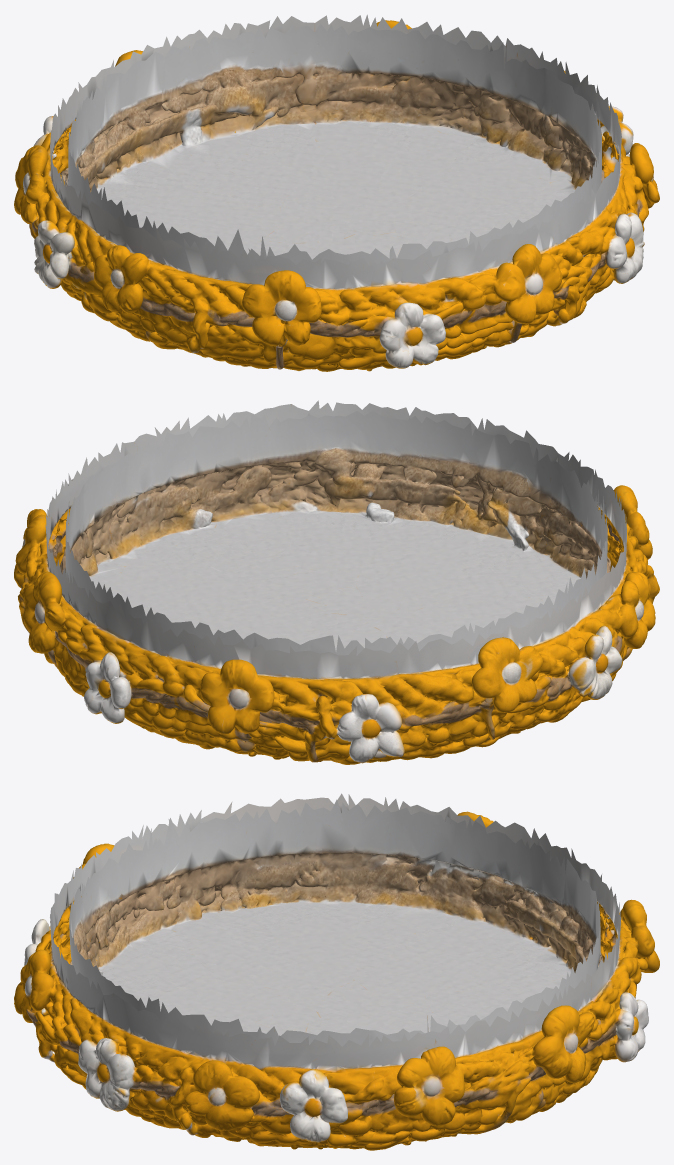
File: jar-base-display.glb
3 renders of one model, top to bottom at view 1: azimuth 30°, elevation 25°; view 2: azimuth 150°, elevation 25°; view 3: azimuth 270°, elevation 25°, orthographic.
Size of the model in its own units: 1.73 by 0.4072 by 1.72.
1 material, 1 textured.
